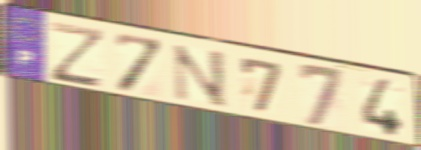4: (359, 76, 406, 139)
7: (296, 60, 346, 130), (113, 31, 164, 96), (237, 56, 284, 114)
N: (171, 42, 229, 110)
Z: (48, 19, 107, 90)
